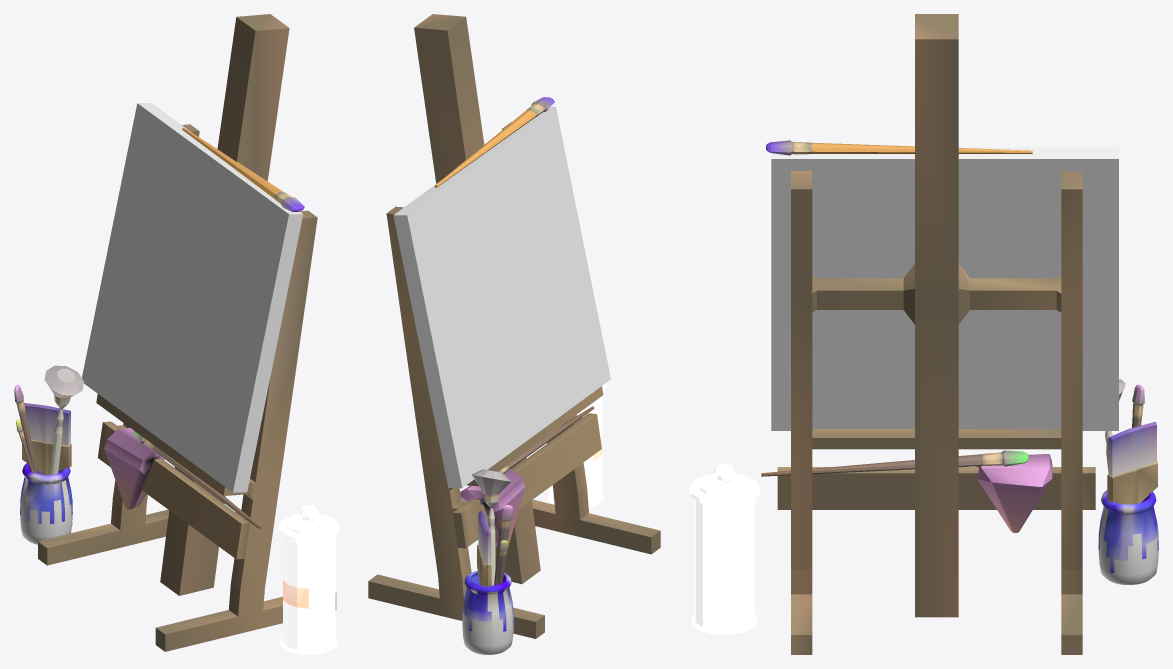
The model's file is art easel set up.glb.
3 renders of one model, left to right at view 1: azimuth 30°, elevation 25°; view 2: azimuth 150°, elevation 25°; view 3: azimuth 270°, elevation 25°, orthographic. The views are drawn at different scales.
Visible parts, largest first — view 1: Cube.001; view 2: Cube.001; view 3: Cube.001.
Boxes of the visible parts, <box> form: Cube.001: <box>14,14,339,654</box>; Cube.001: <box>368,14,660,654</box>; Cube.001: <box>689,14,1158,654</box>.
Size of the model in its own units: 4.27 by 12.52 by 8.5.
